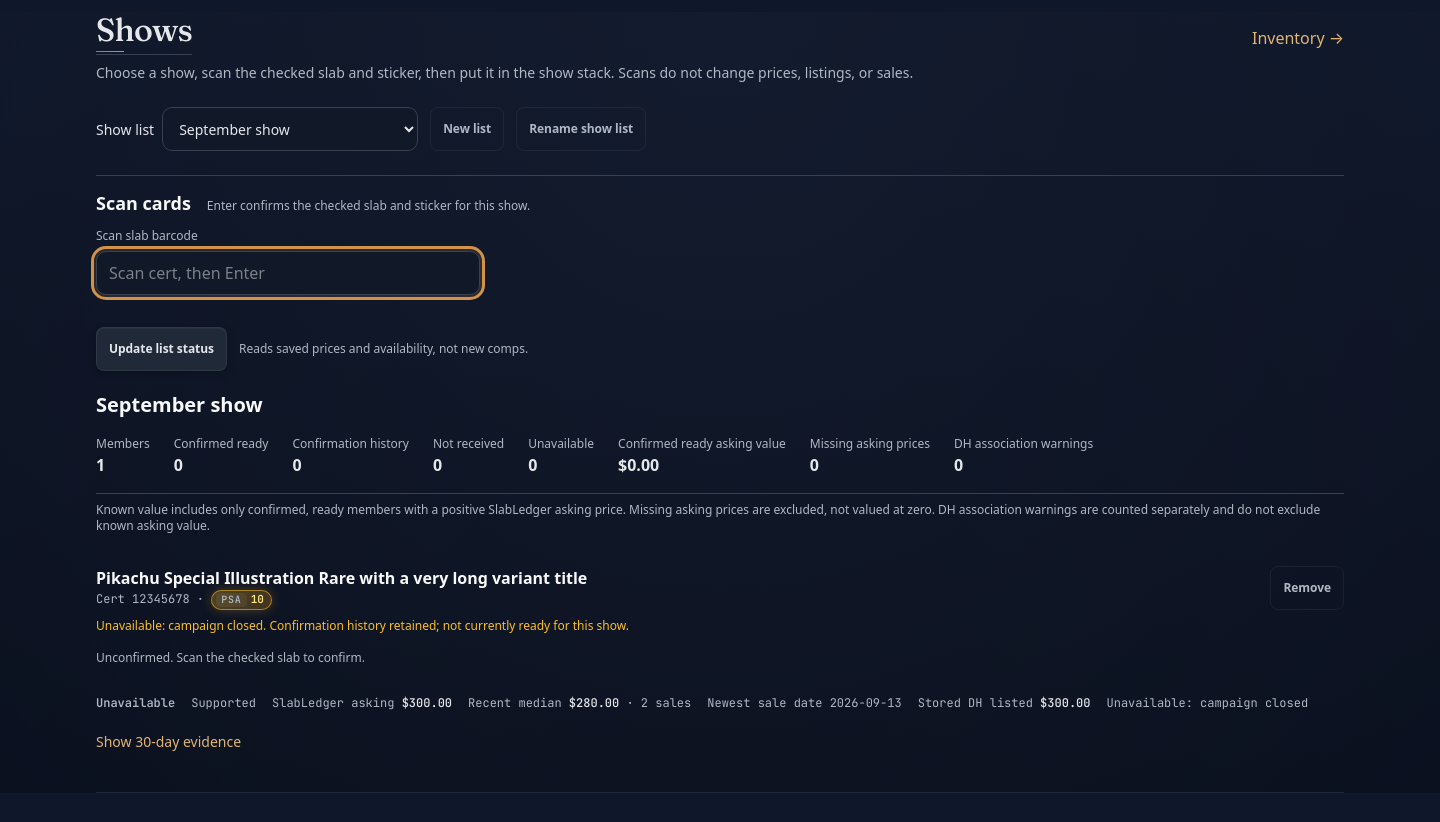
Test: scan-only saved show preparation › rechecking reopened availability never automatically confirms legacy members
Expected: the text "Confirmation history retained" is shown, left=263, top=617, right=629, bottom=634
Click the button "Update list status" at (162, 349), box left=96, top=327, right=227, bottom=371
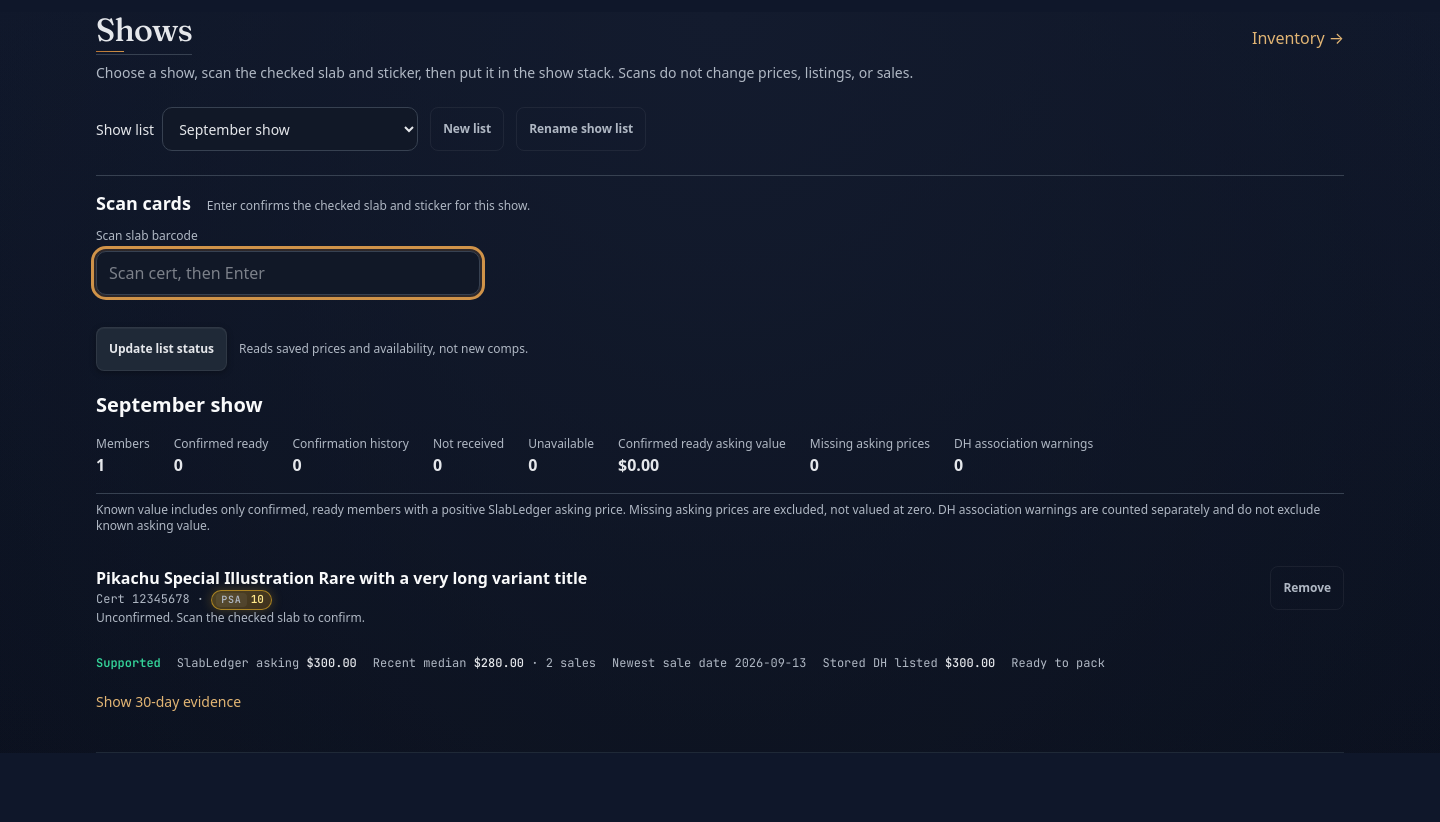
Expected: the text "Unconfirmed. Scan the checked slab to confirm." is shown, left=96, top=609, right=365, bottom=626
Expected: the text "Confirmation history retained" is gone
